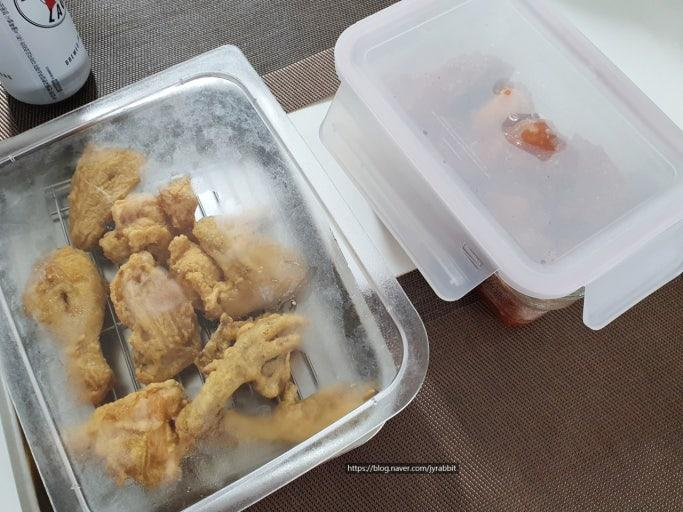Bottle: (0, 0, 90, 104)
Lunch Box: (0, 46, 427, 511), (321, 0, 682, 329)
